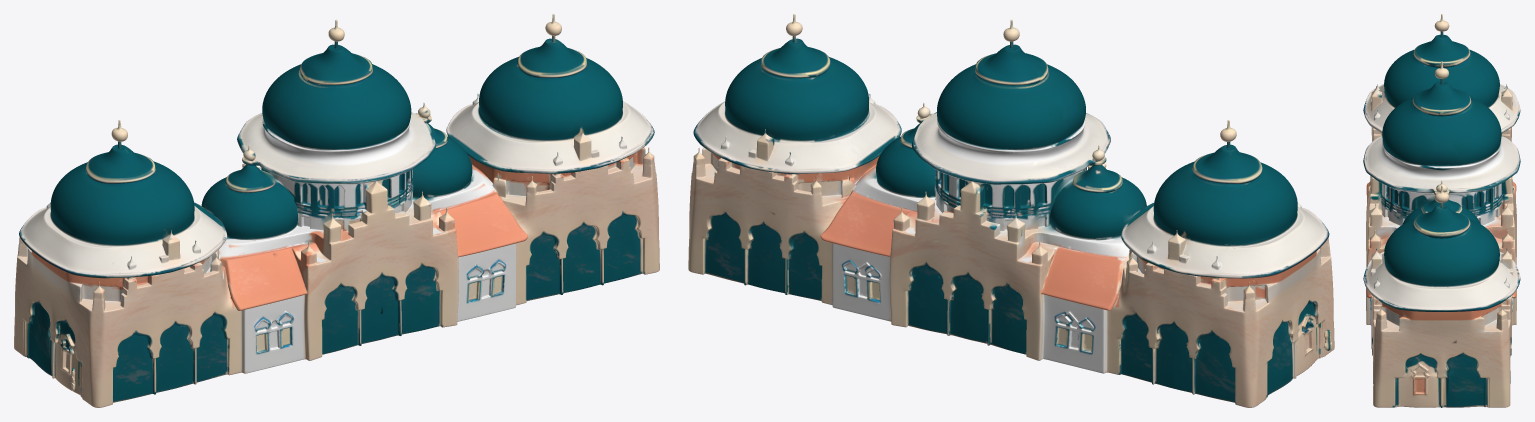
The model's file is masjid_raya_baiturrahman.glb.
3 renders of one model, left to right at view 1: azimuth 30°, elevation 25°; view 2: azimuth 150°, elevation 25°; view 3: azimuth 270°, elevation 25°, orthographic. The views are drawn at different scales.
Visible parts, largest first — view 1: convert; view 2: convert; view 3: convert.
Part boxes in pixels (<box>): convert: <box>14,14,659,407</box>; convert: <box>688,14,1334,407</box>; convert: <box>1363,14,1520,407</box>.
Size of the model in its own units: 1.11 by 0.5137 by 0.3124.
Materials: 1 (1 with a texture image).
